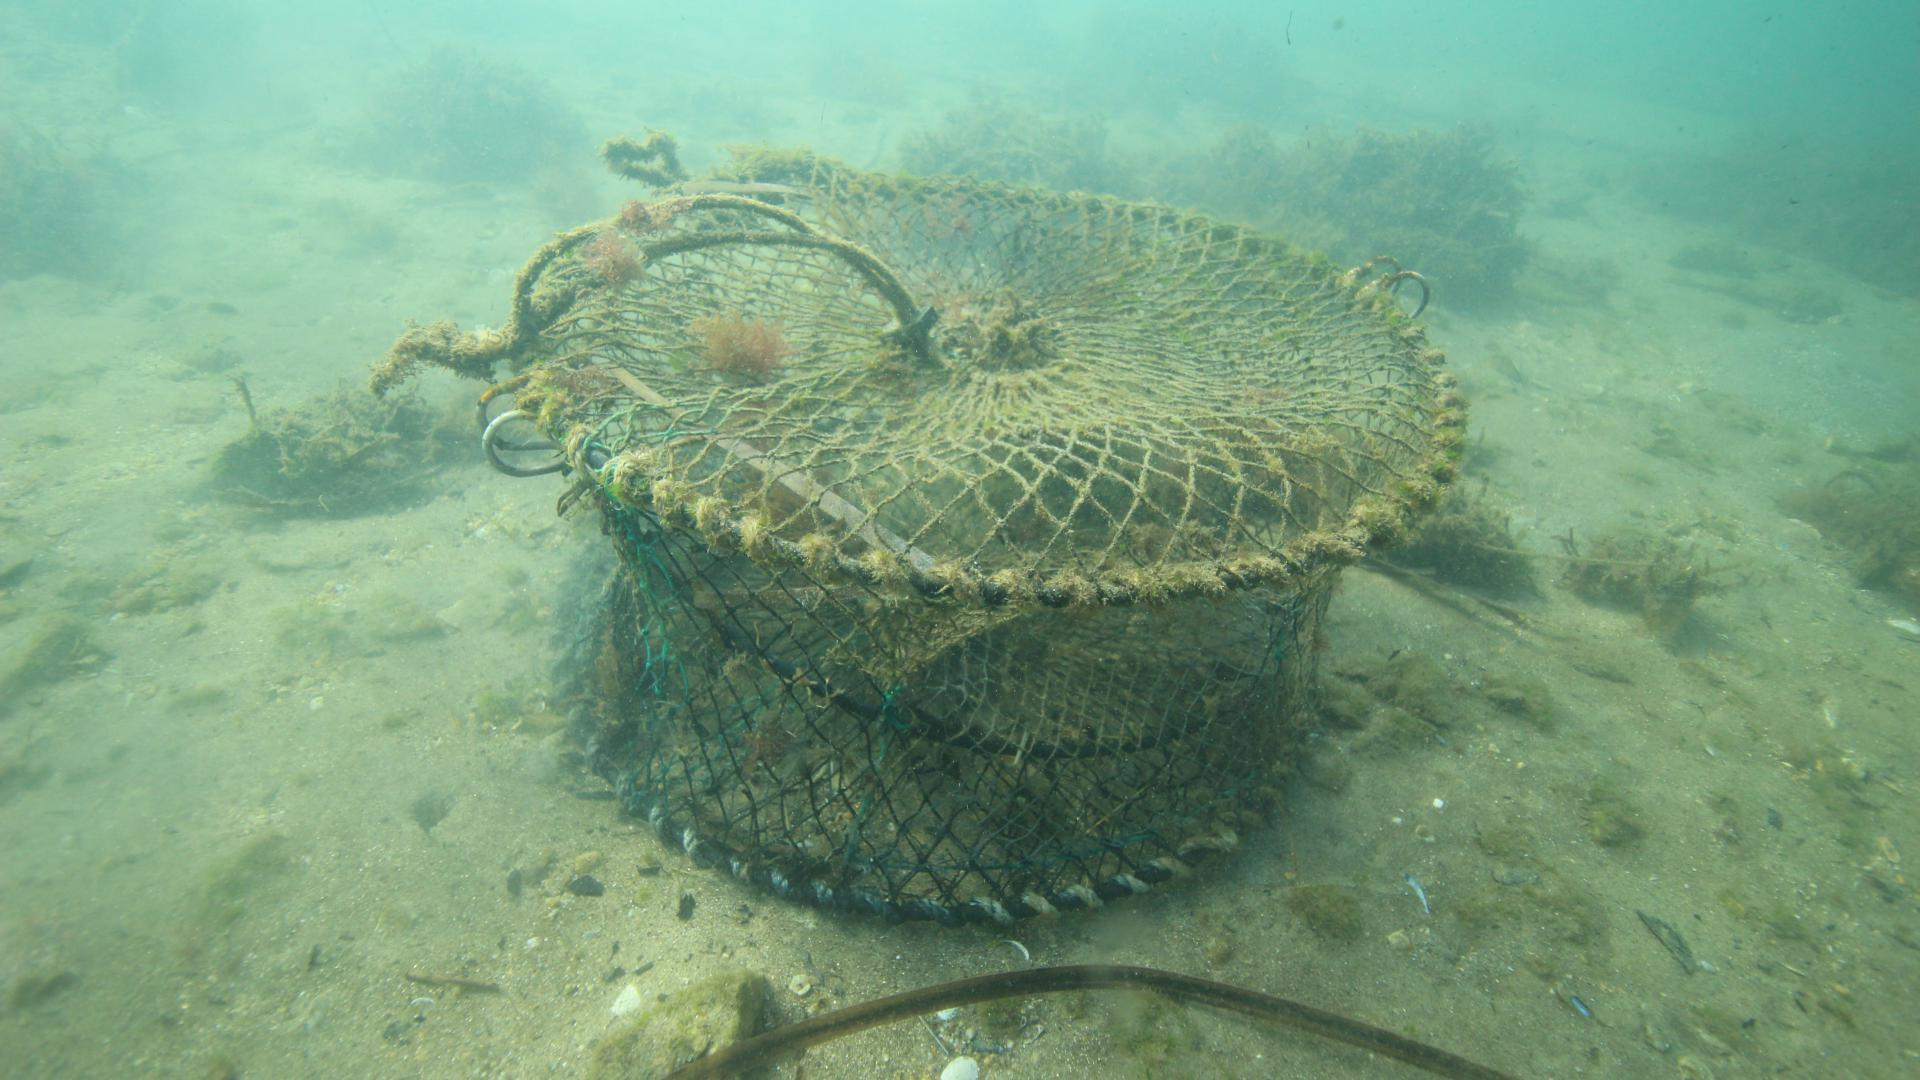circular fish trap: (508, 146, 1470, 924)
